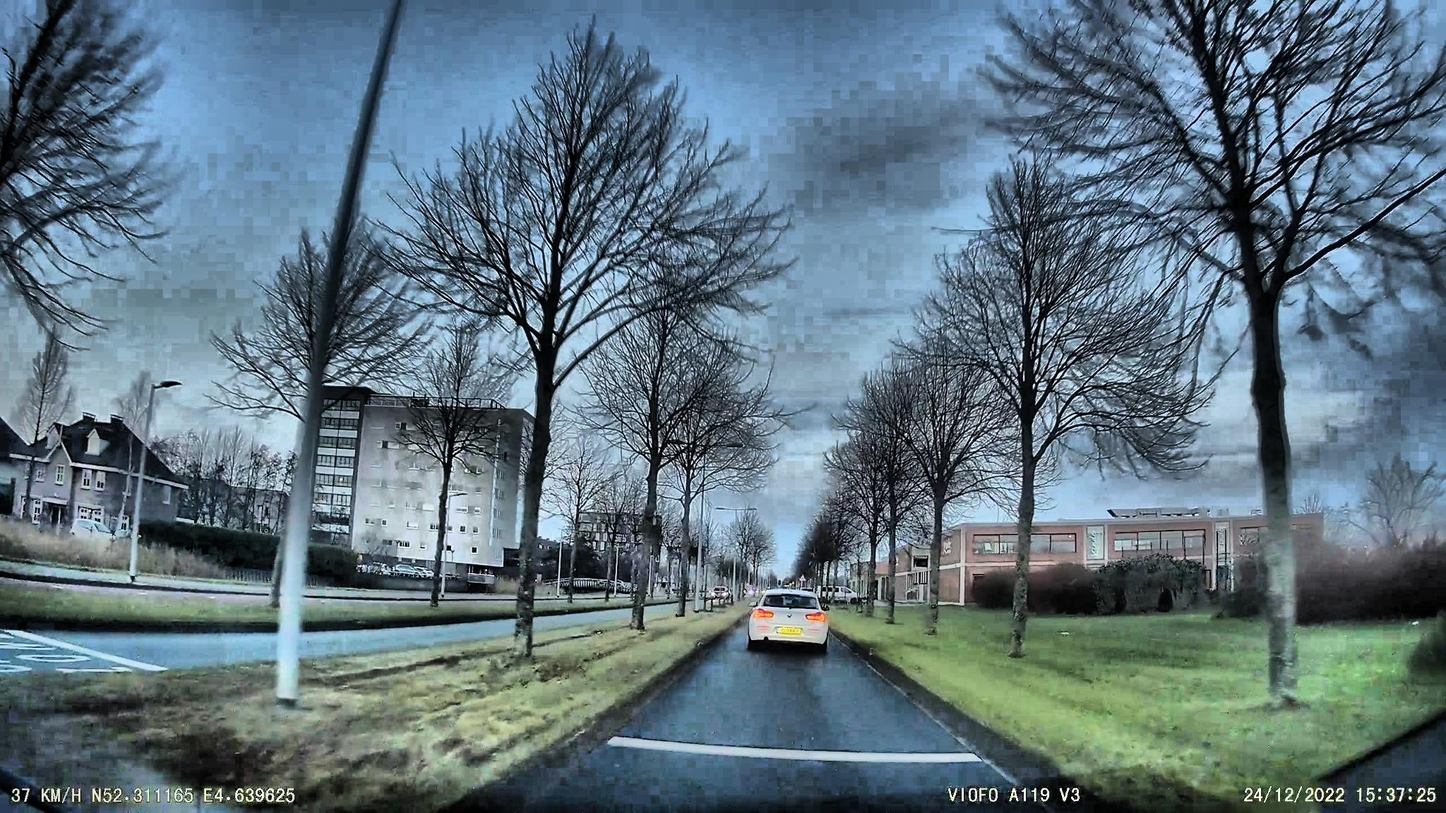Roads: (438, 622, 1116, 813)
